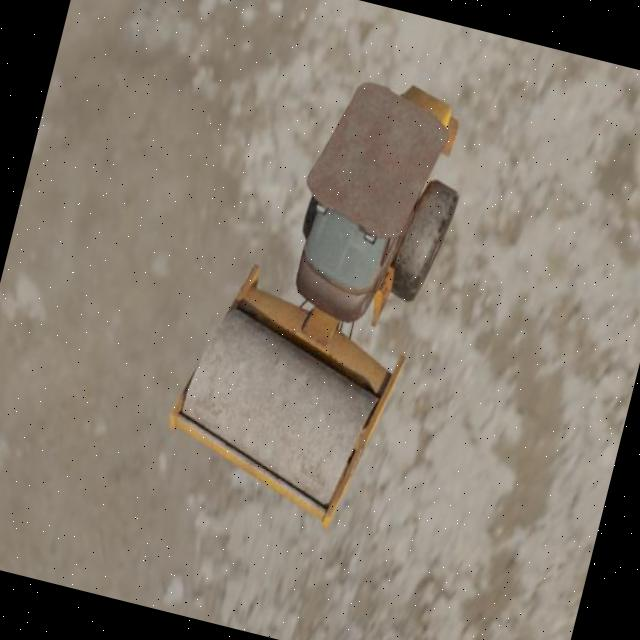Roller: (152, 46, 482, 541)
